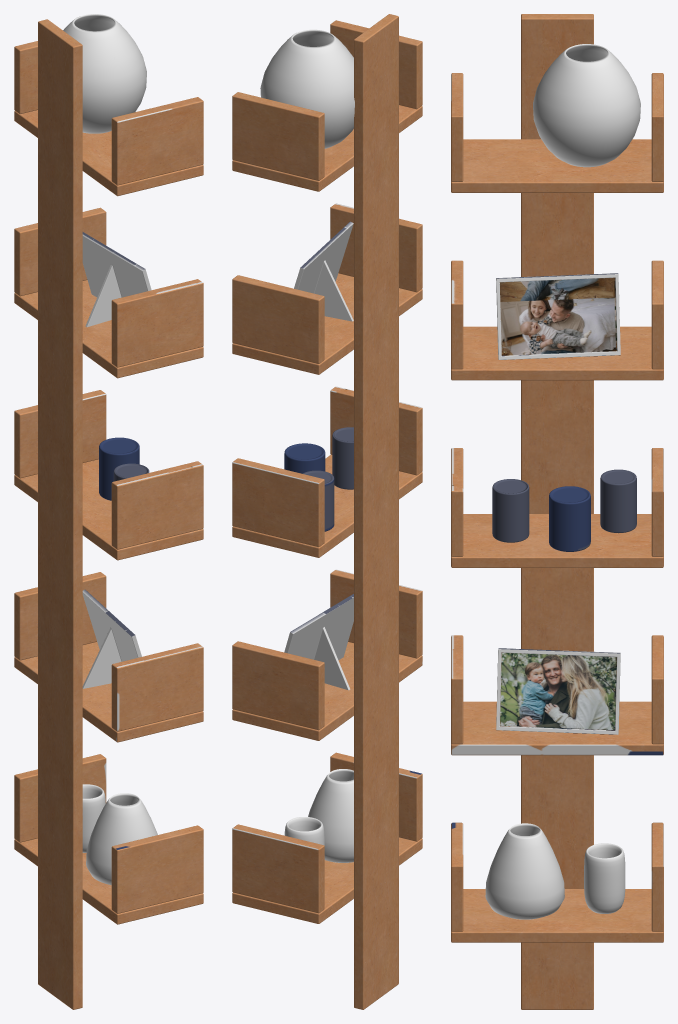
File: PT_4_Misc.fbx
3 renders of one model, left to right at view 1: azimuth 30°, elevation 25°; view 2: azimuth 150°, elevation 25°; view 3: azimuth 270°, elevation 25°, orthographic. The views are drawn at different scales.
Parts seen in each view (by area): view 1: Wooden Wall Shelf.001_Baked, Vase_03_Baked, Frame_01_Baked, Vase_01_Baked, Frame_02_Baked, Candle_02_Baked, Vase_02_Baked, Candle_01_Baked; view 2: Wooden Wall Shelf.001_Baked, Vase_03_Baked, Frame_02_Baked, Vase_01_Baked, Frame_01_Baked, Candle_01_Baked, Candle_02_Baked, Vase_02_Baked, Candle_03_Baked; view 3: Wooden Wall Shelf.001_Baked, Vase_03_Baked, Frame_02_Baked, Frame_01_Baked, Vase_01_Baked, Vase_02_Baked, Candle_02_Baked, Candle_01_Baked, Candle_03_Baked.
Boxes of the visible parts, box(x1,y1,x2,y2) form: Wooden Wall Shelf.001_Baked: box(14, 19, 203, 1009); Vase_03_Baked: box(63, 14, 146, 133); Frame_01_Baked: box(82, 232, 151, 327); Vase_01_Baked: box(86, 793, 157, 885); Frame_02_Baked: box(82, 589, 141, 688); Candle_02_Baked: box(99, 437, 139, 500); Vase_02_Baked: box(82, 784, 105, 852); Candle_01_Baked: box(113, 463, 149, 481); Wooden Wall Shelf.001_Baked: box(232, 14, 422, 1009); Vase_03_Baked: box(260, 29, 354, 148); Frame_02_Baked: box(284, 594, 353, 690); Vase_01_Baked: box(308, 769, 353, 862); Frame_01_Baked: box(294, 221, 353, 321); Candle_01_Baked: box(332, 427, 353, 489); Candle_02_Baked: box(284, 443, 325, 473); Vase_02_Baked: box(284, 817, 324, 845); Candle_03_Baked: box(302, 470, 334, 531); Wooden Wall Shelf.001_Baked: box(451, 14, 663, 1009); Vase_03_Baked: box(533, 44, 640, 167); Frame_02_Baked: box(496, 648, 620, 734); Frame_01_Baked: box(496, 273, 620, 359); Vase_01_Baked: box(485, 823, 564, 919); Vase_02_Baked: box(584, 843, 625, 913); Candle_02_Baked: box(549, 486, 590, 551); Candle_01_Baked: box(492, 479, 529, 542); Candle_03_Baked: box(600, 469, 636, 533).
Size of the model in its own units: 19.37 by 180 by 35.
Materials: 1 (1 with a texture image).
